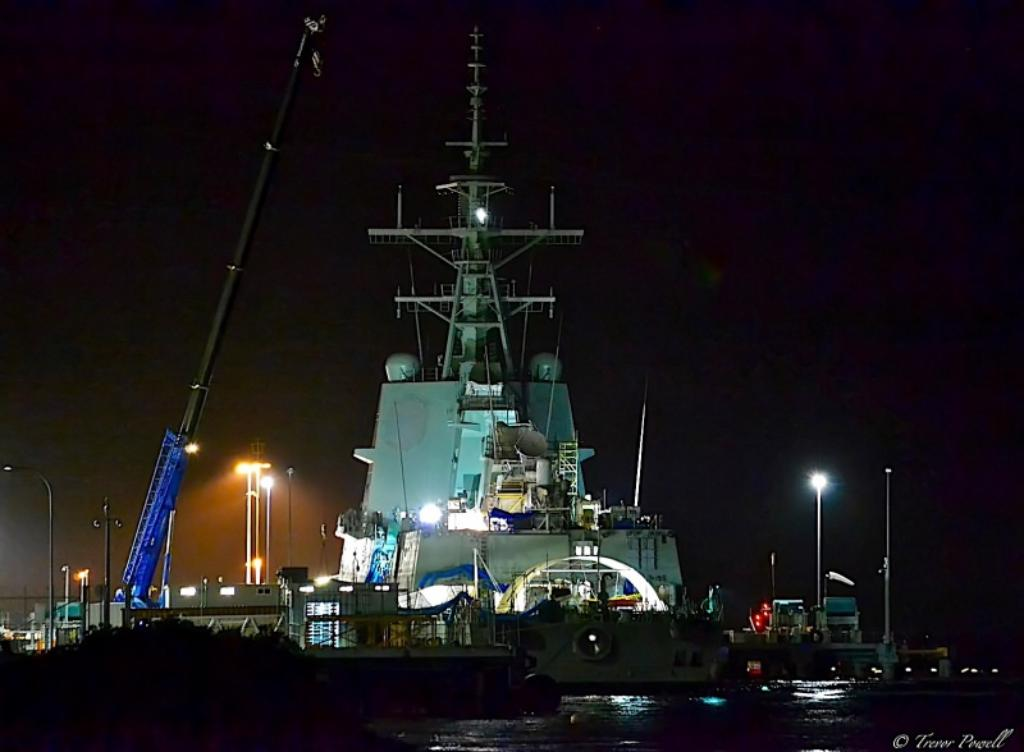Warship: (323, 22, 739, 692)
